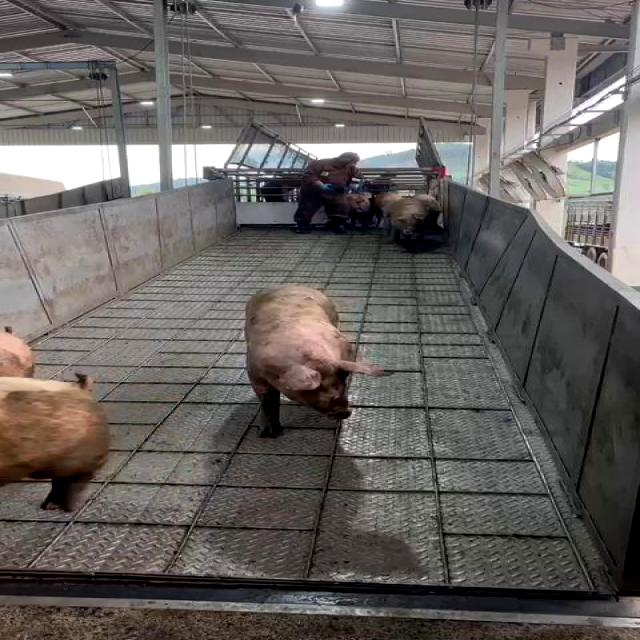pig: (244, 285, 382, 435), (1, 378, 109, 510)
